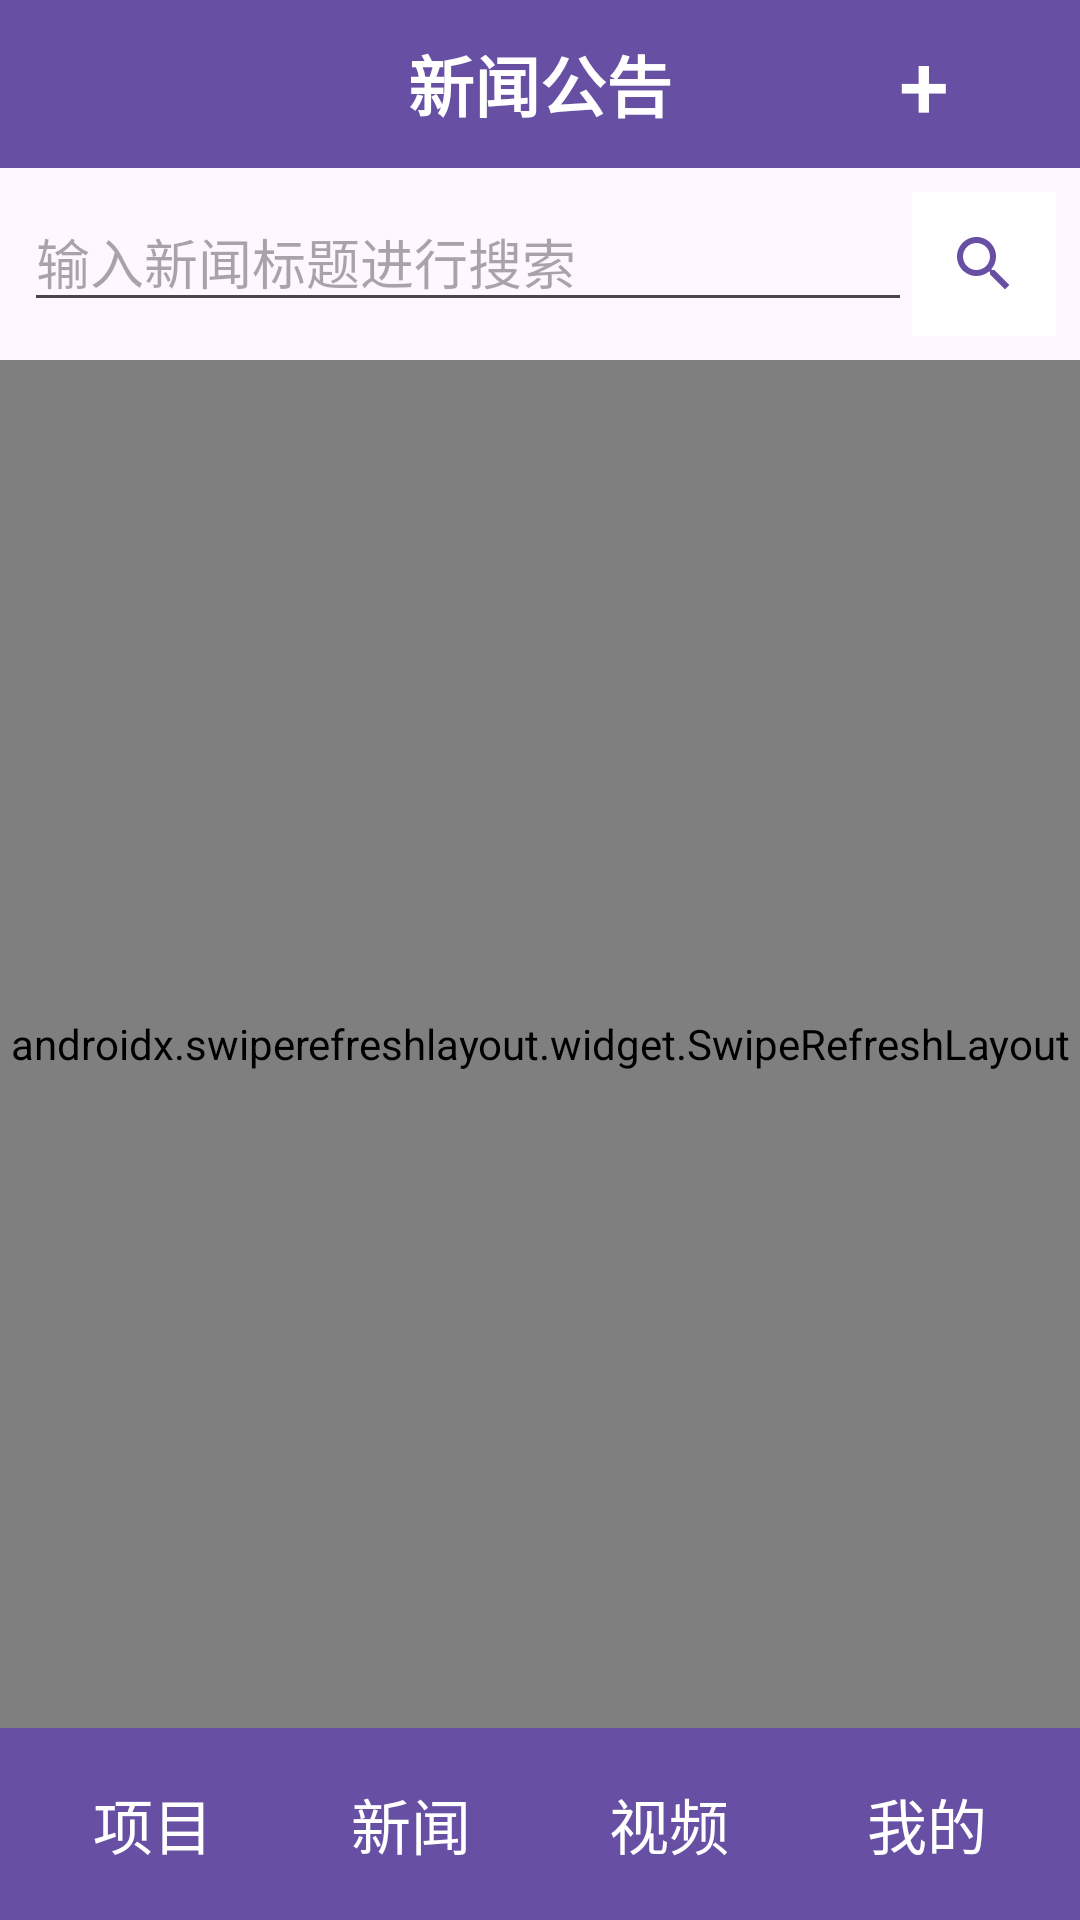

Locate icon controls on the screen. Image size 1080 x 1920, boxes as [x1,y1,x2,y2].
search: [957,237,1009,289]
